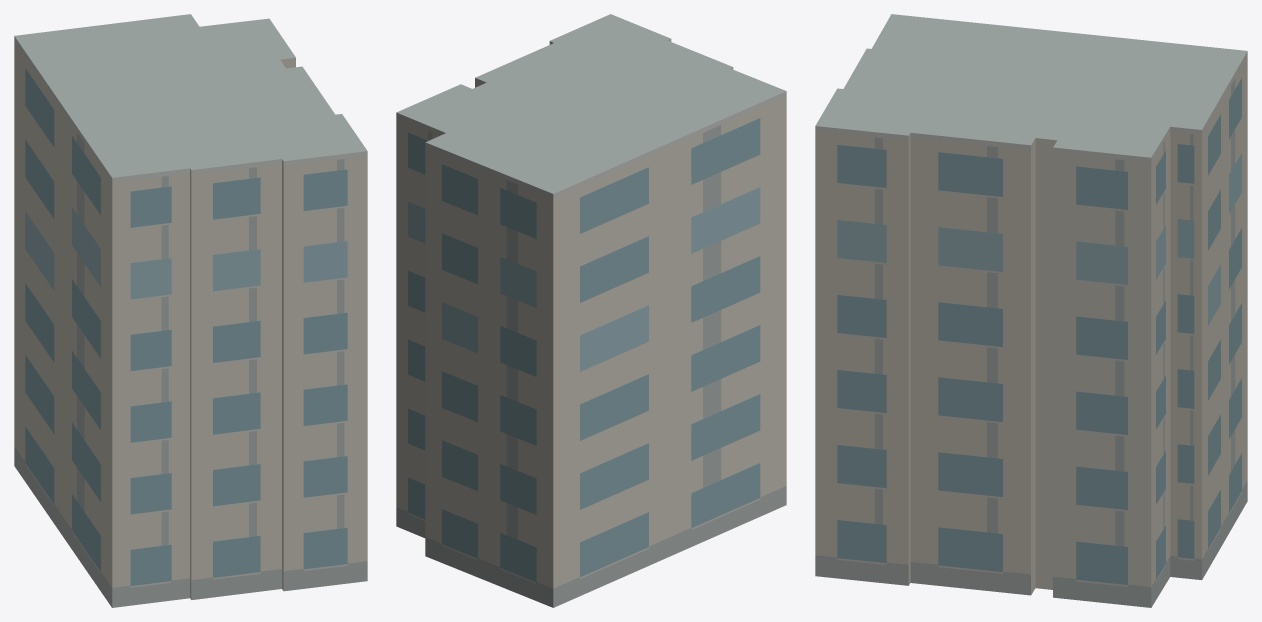
File: survey-upis-32873610.glb
The picture shows the model from 3 angles, left to right: view 1: azimuth 30°, elevation 25°; view 2: azimuth 150°, elevation 25°; view 3: azimuth 270°, elevation 25°; orthographic projection. The views are drawn at different scales.
Visible parts, largest first — view 1: survey-upis-32873610.tmp; view 2: survey-upis-32873610.tmp; view 3: survey-upis-32873610.tmp.
Part boxes in pixels (x1,y1,x2,y2): survey-upis-32873610.tmp: (14,14,367,607); survey-upis-32873610.tmp: (396,14,786,607); survey-upis-32873610.tmp: (815,14,1247,607).
Size of the model in its own units: 14.15 by 20.65 by 17.98.
